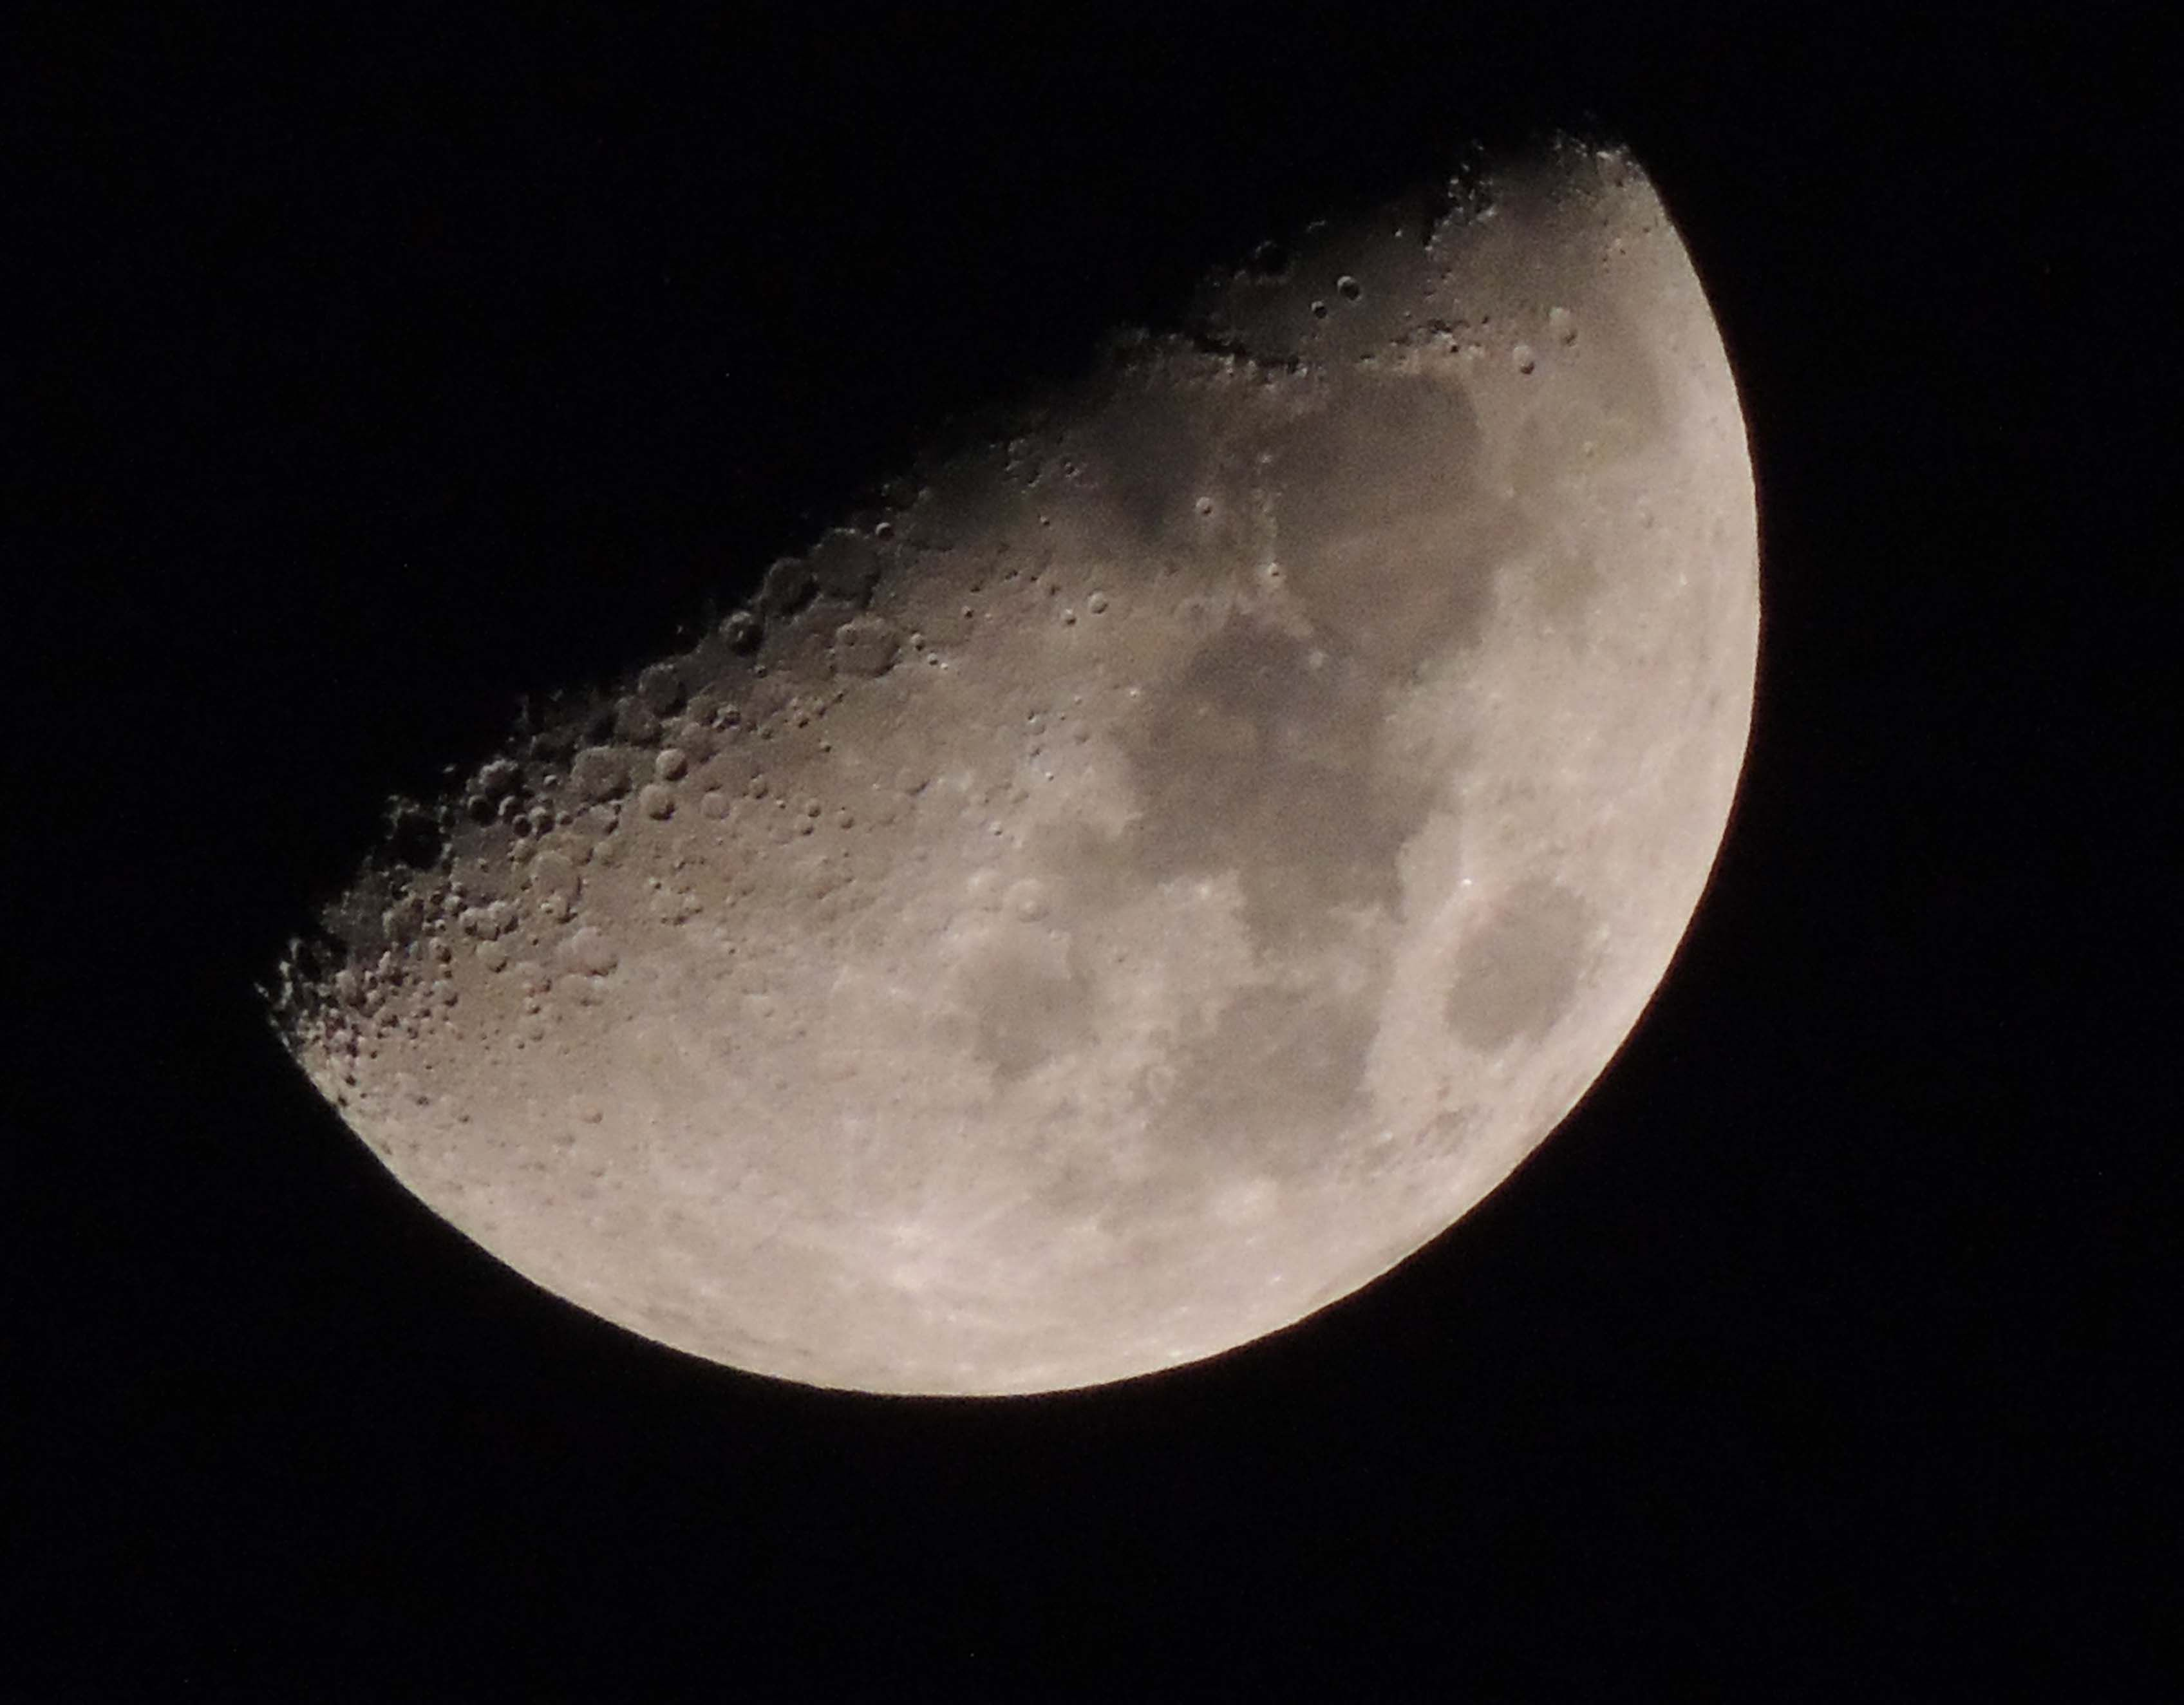crater: (1439, 851, 1608, 1072), (798, 521, 893, 622), (989, 863, 1072, 952), (700, 599, 780, 670), (562, 920, 635, 994), (516, 1081, 574, 1166), (885, 750, 940, 817), (1067, 576, 1133, 631), (1539, 294, 1590, 363), (564, 1072, 612, 1143), (1501, 331, 1546, 401), (386, 1060, 436, 1120), (1620, 486, 1672, 542), (1184, 486, 1234, 530), (1335, 266, 1374, 319), (1259, 551, 1298, 594), (1571, 432, 1610, 475)
